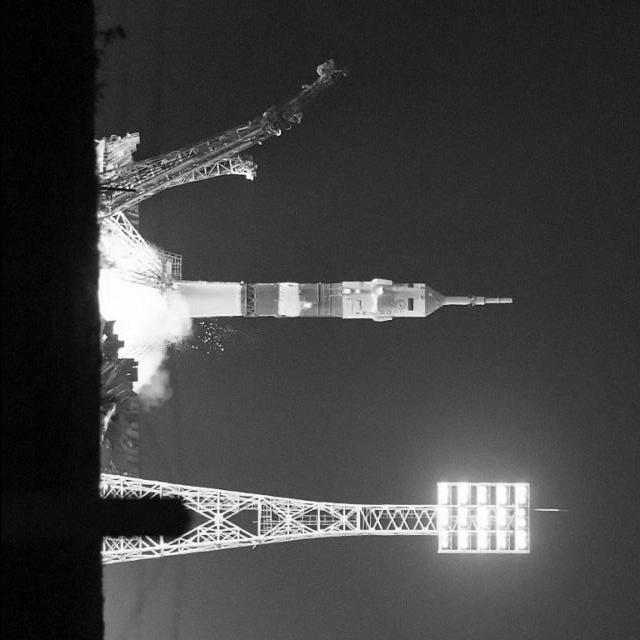missile: (210, 276, 442, 321), (435, 292, 525, 310)
